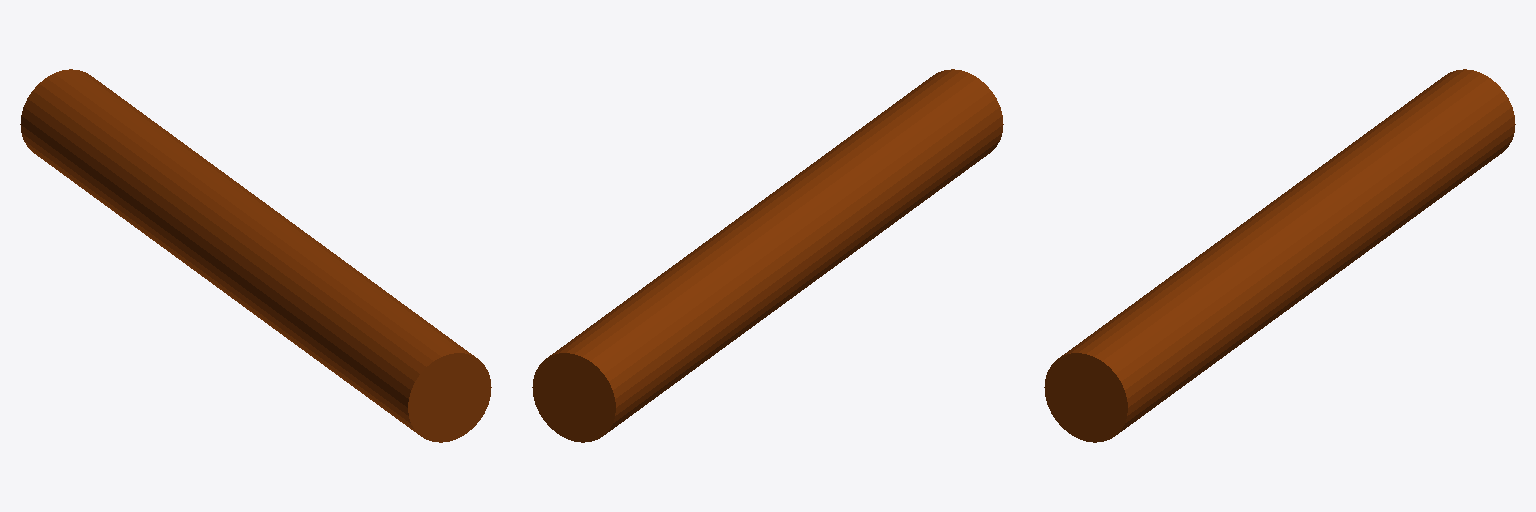
The robot description file, URDF, robot "cylinder":
<?xml version="1.0" ?>
<!-- =================================================================================== -->
<!-- |    This document was autogenerated by xacro from cylinder.xacro                 | -->
<!-- |    EDITING THIS FILE BY HAND IS NOT RECOMMENDED                                 | -->
<!-- =================================================================================== -->
<robot name="cylinder">
  <link name="world"/>
  <link name="base">
    <visual>
      <origin rpy="1.57079633 0 0" xyz="0 0 0"/>
      <geometry>
        <cylinder length="7.07106781185" radius="0.44"/>
      </geometry>
      <material name="cylinder_material">
        <color rgba="0.545 0.271 0.075 1.0"/>
        <texture filename="../textures/tree_bark.jpg"/>
      </material>
    </visual>
    <collision>
      <origin rpy="1.57079633 0 0" xyz="0 0 0"/>
      <geometry>
        <cylinder length="7.07106781185" radius="0.44"/>
      </geometry>
    </collision>
    <inertial>
      <origin rpy="0 0 0" xyz="0 0 0"/>
      <mass value="1"/>
      <inertia ixx="4.215066666648429" ixy="0.0" ixz="0.0" iyy="4.215066666648429" iyz="0.0" izz="24.999999999890573"/>
    </inertial>
  </link>
  <joint name="base_joint" type="fixed">
    <parent link="world"/>
    <child link="base"/>
    <origin rpy="0 0 0" xyz="0.0 0.0 0.0"/>
  </joint>
</robot>

--- Facts derived from the render (not from the file) ---
The picture shows the robot from 3 angles, left to right: view 1: azimuth 30°, elevation 25°; view 2: azimuth 150°, elevation 25°; view 3: azimuth 330°, elevation 25°; orthographic projection.
Robot: cylinder — 2 links, 1 joints (1 fixed); root link world; default pose: every joint at zero.
Visible links, largest first — view 1: base; view 2: base; view 3: base.
Boxes of the visible links, left/top/right/bottom form: base: left=20, top=69, right=491, bottom=442; base: left=532, top=69, right=1003, bottom=442; base: left=1044, top=69, right=1515, bottom=442.
Size in the robot's own frame: 0.88 by 7.07 by 0.88 metres.
Geometry: primitives only (box / cylinder / sphere), no mesh files.
